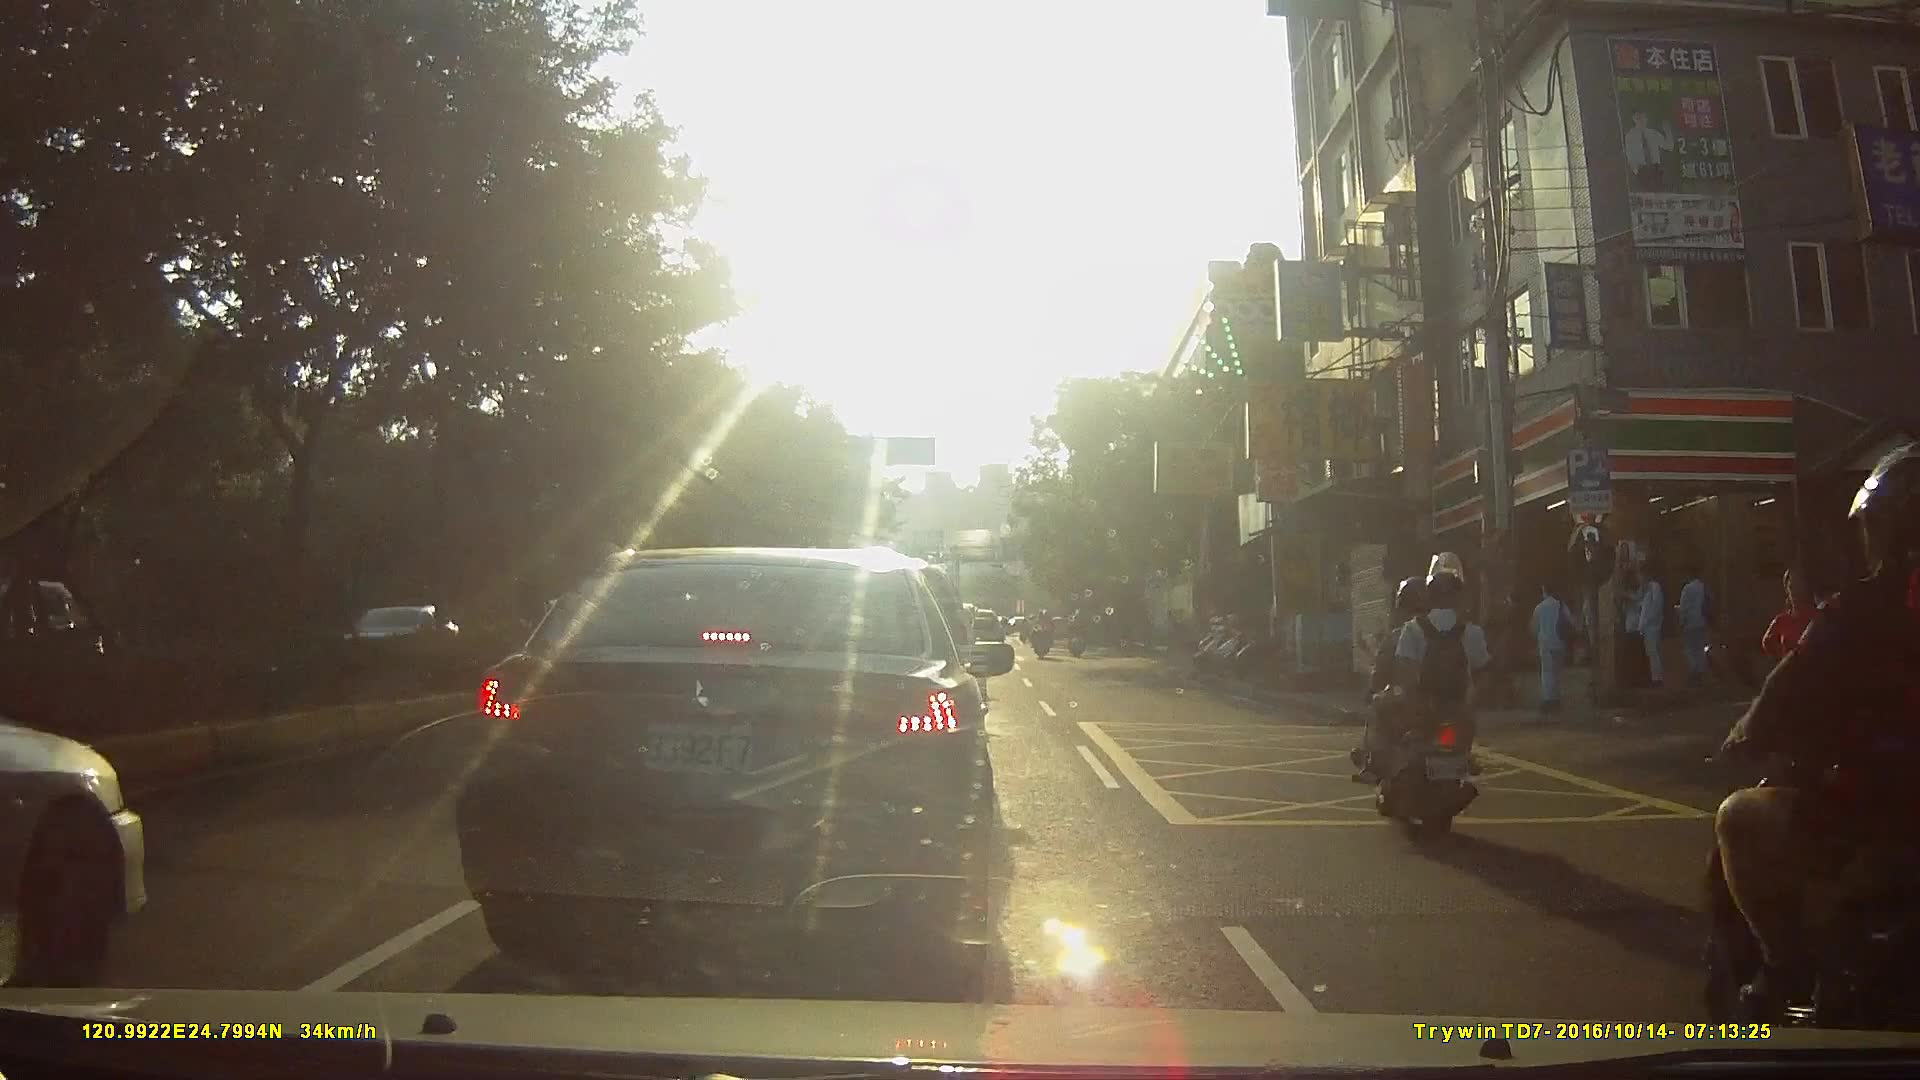pedestrian: (1763, 567, 1839, 827), (1796, 584, 1871, 780), (1622, 565, 1664, 691), (1678, 565, 1721, 682), (1615, 568, 1645, 698)
rider: (1707, 440, 1920, 1080), (1356, 551, 1501, 839), (1065, 613, 1088, 663), (1034, 607, 1054, 663)
vehicle: (457, 537, 1042, 971), (5, 577, 111, 688)
